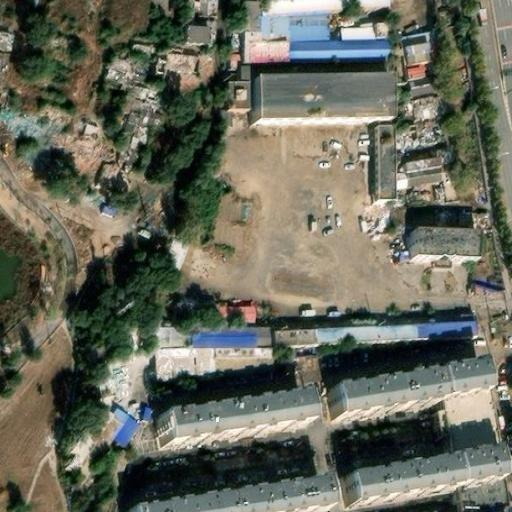building: (325, 371, 481, 428), (341, 460, 497, 512), (152, 398, 302, 447), (251, 77, 387, 124), (143, 485, 326, 512), (434, 401, 492, 468), (289, 38, 389, 62), (314, 324, 419, 344), (156, 49, 200, 92), (408, 233, 473, 261), (194, 327, 273, 347), (246, 31, 290, 64), (288, 10, 331, 42), (375, 125, 393, 198), (113, 408, 141, 448), (160, 233, 191, 269), (450, 490, 500, 512), (419, 322, 477, 340), (260, 12, 289, 37), (276, 328, 315, 346), (406, 157, 441, 176), (404, 77, 435, 98), (405, 42, 431, 65), (228, 82, 251, 108), (413, 96, 439, 118), (159, 327, 185, 347), (408, 171, 441, 186), (82, 118, 104, 138), (229, 306, 256, 322), (187, 25, 211, 43), (341, 28, 376, 40), (404, 32, 432, 46), (215, 303, 229, 322), (228, 54, 240, 70), (376, 22, 387, 39), (240, 65, 251, 82), (434, 260, 453, 268), (103, 205, 115, 217), (410, 68, 425, 77), (143, 407, 151, 421)
